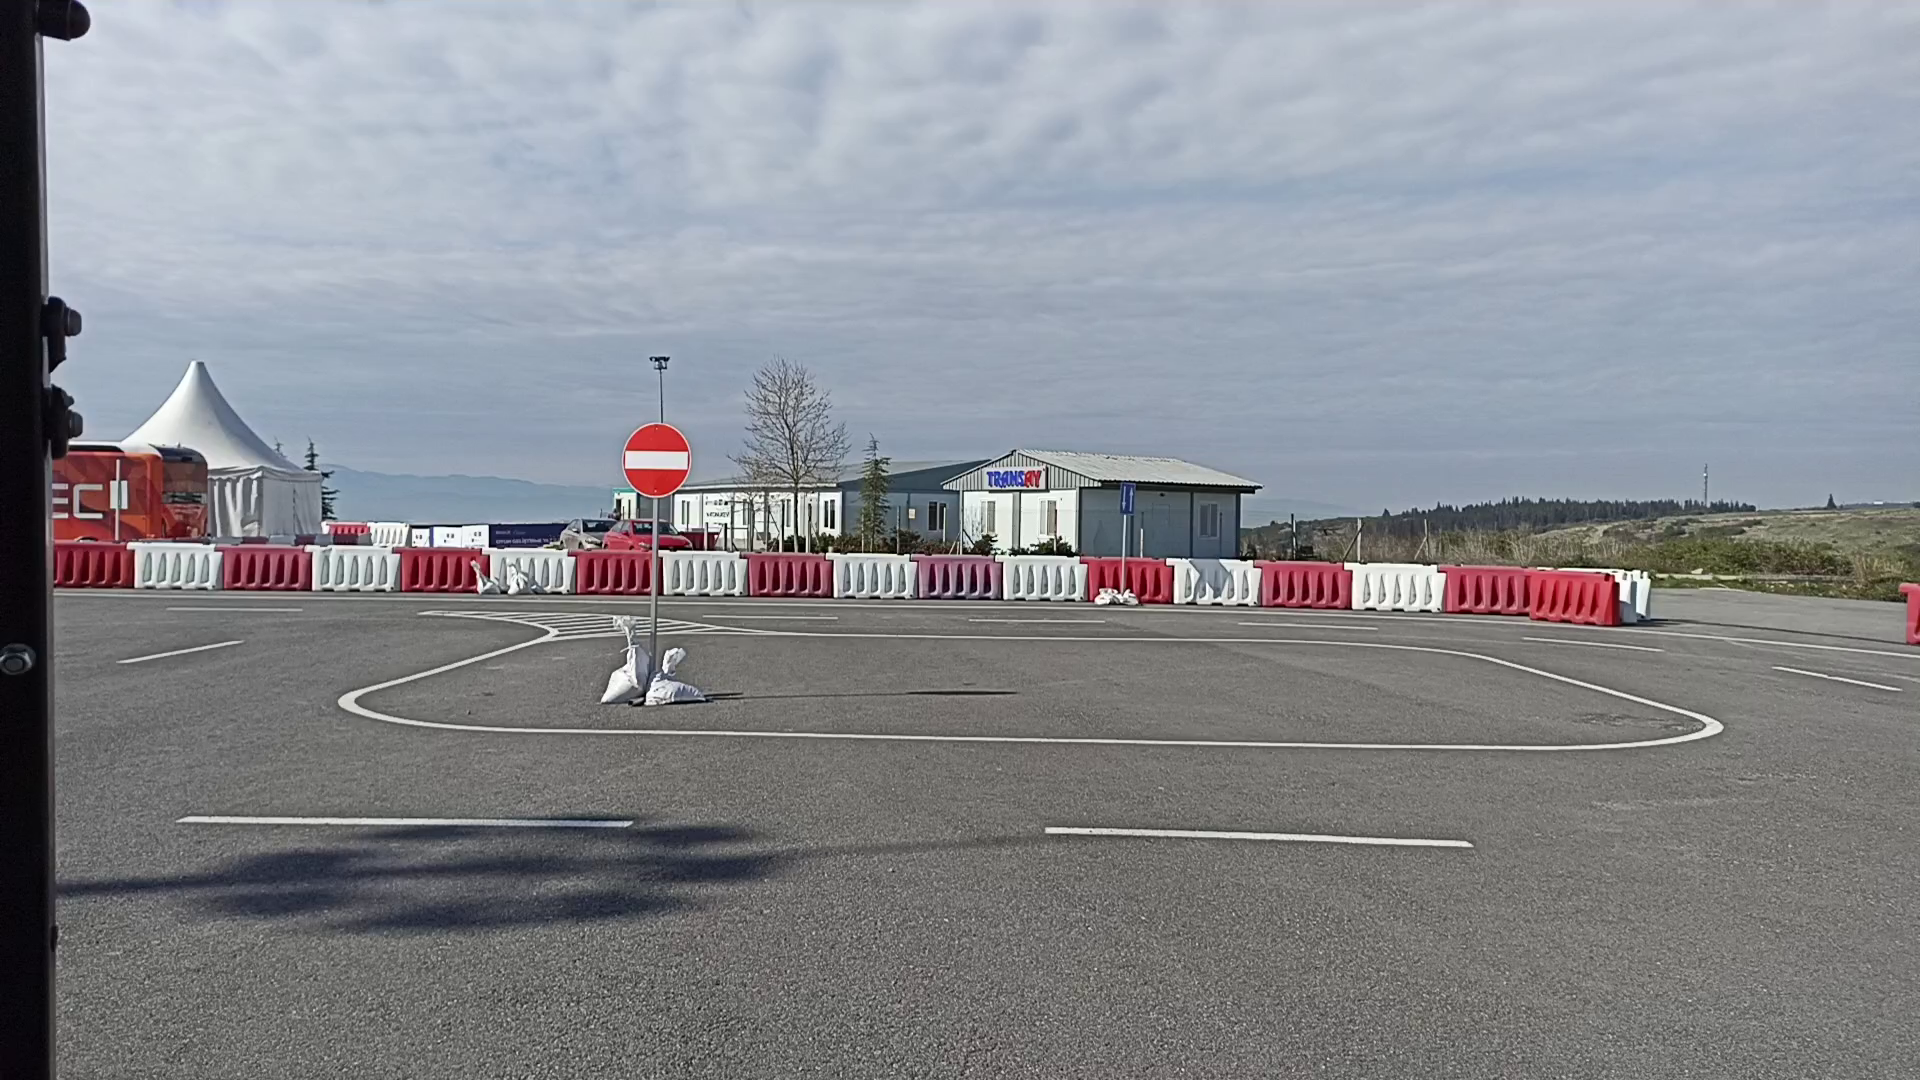noentryway: (620, 419, 692, 501)
